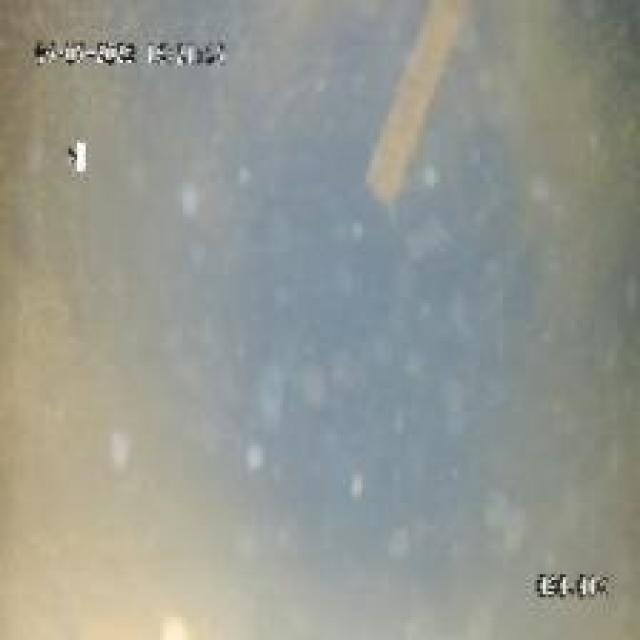ferrule: (363, 0, 463, 214)
